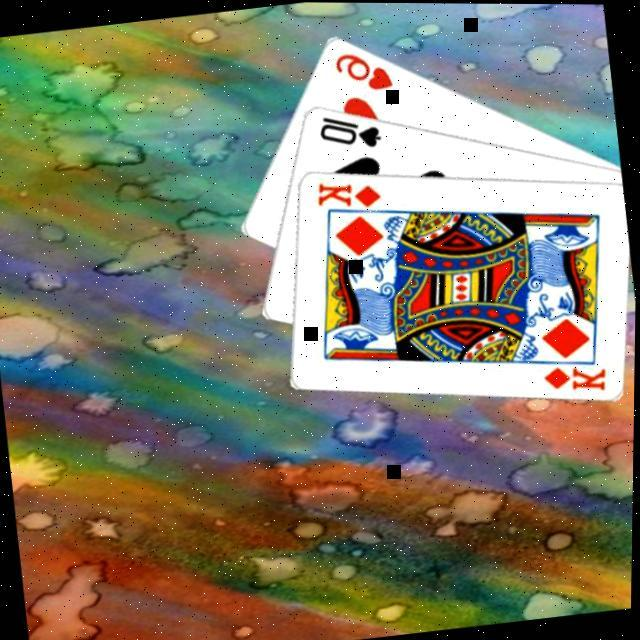10S: (314, 107, 388, 157)
6H: (330, 45, 398, 98)
KD: (312, 172, 386, 216), (540, 358, 612, 400)
